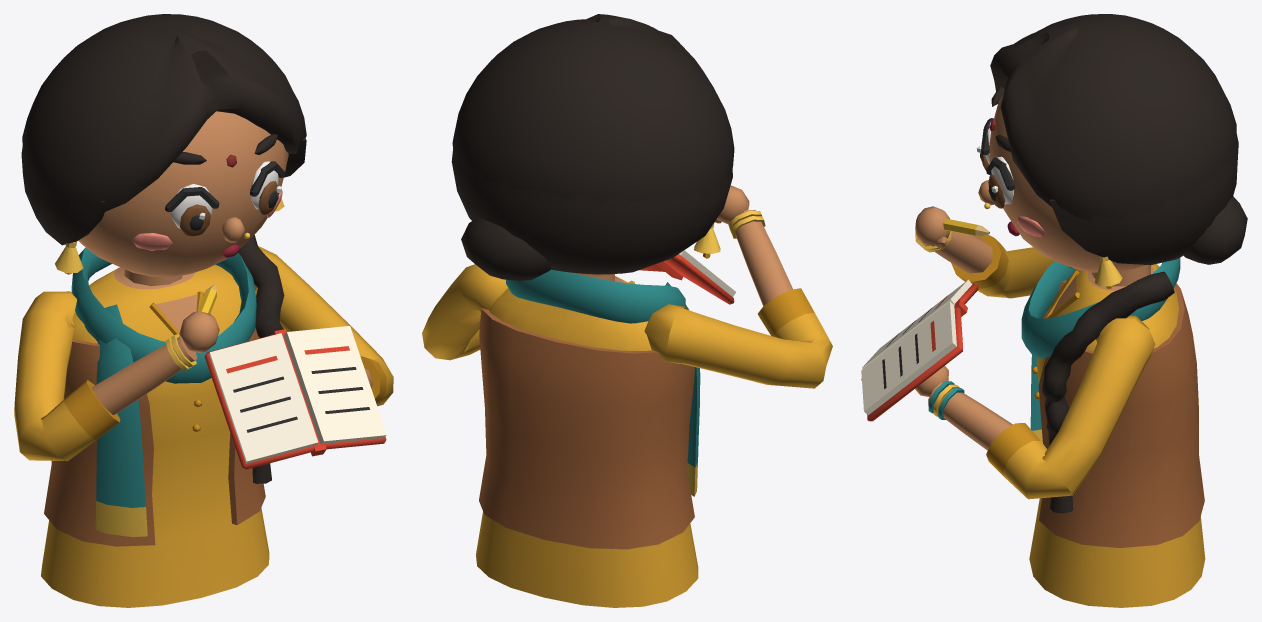
Rendered from rani_ledger.glb.
The picture shows the model from 3 angles, left to right: view 1: azimuth 30°, elevation 25°; view 2: azimuth 150°, elevation 25°; view 3: azimuth 270°, elevation 25°; orthographic projection. The views are drawn at different scales.
Visible parts, largest first — view 1: head, body, arm_l, arm_r; view 2: body, head, arm_r, arm_l; view 3: head, body, arm_l, arm_r.
Part boxes in pixels (bbox=[...]): head: bbox=[21, 14, 306, 277]; body: bbox=[41, 235, 284, 607]; arm_l: bbox=[204, 246, 393, 469]; arm_r: bbox=[14, 284, 219, 461]; body: bbox=[476, 269, 700, 607]; head: bbox=[451, 14, 734, 280]; arm_r: bbox=[644, 185, 832, 388]; arm_l: bbox=[422, 250, 735, 360]; head: bbox=[976, 14, 1247, 288]; body: bbox=[1021, 258, 1205, 607]; arm_l: bbox=[861, 279, 1155, 499]; arm_r: bbox=[915, 206, 1054, 298].
Bounding box in the file's own units: 1.1 × 1.47 × 0.9663.
Materials: 1 (1 with a texture image).
